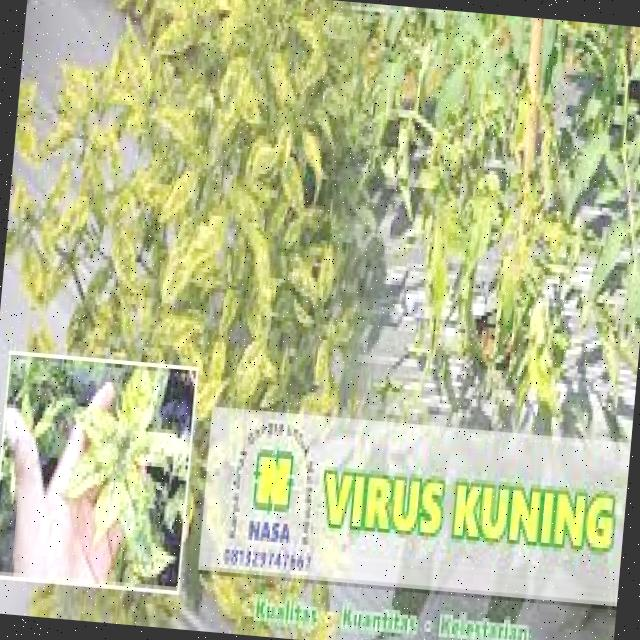yellow: (7, 0, 424, 375)
